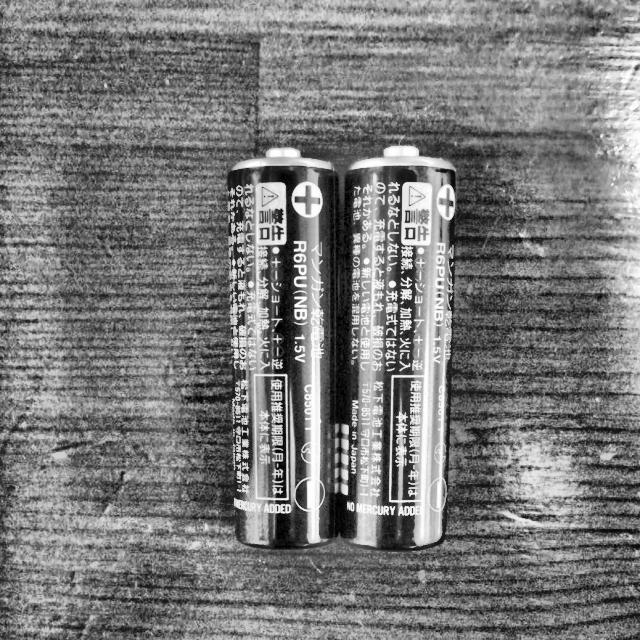drycell: (334, 139, 463, 563), (217, 141, 343, 564)
